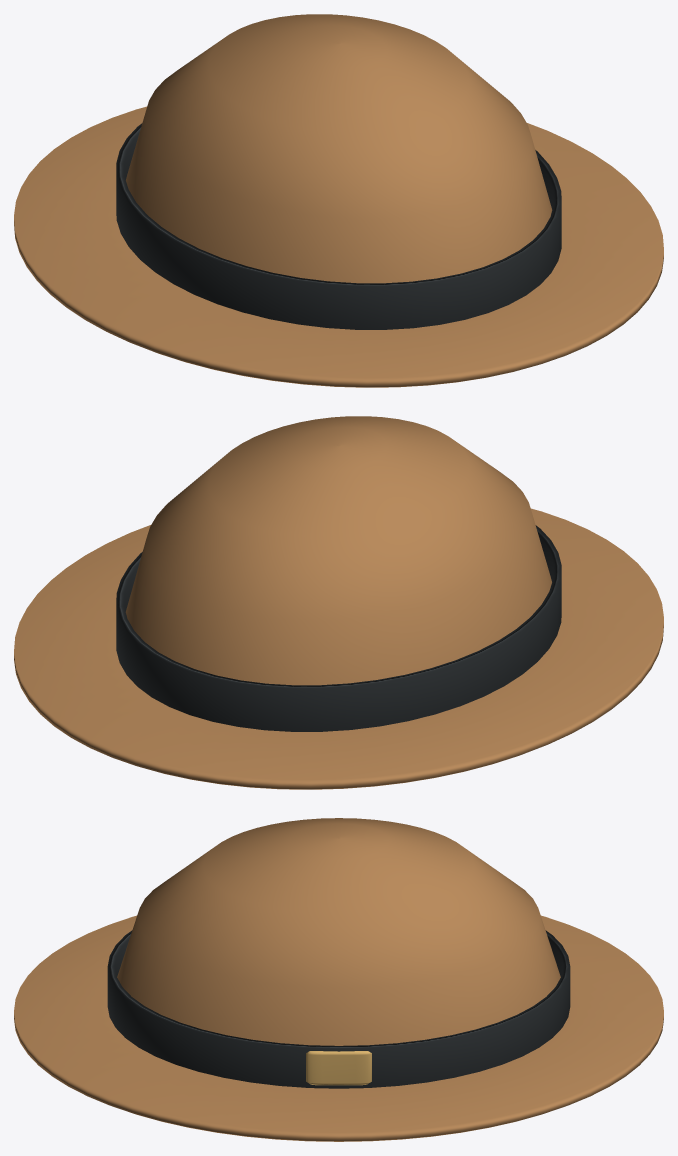
The model's file is 01-fedora.glb.
3 renders of one model, top to bottom at view 1: azimuth 30°, elevation 25°; view 2: azimuth 150°, elevation 25°; view 3: azimuth 270°, elevation 25°, orthographic. The views are drawn at different scales.
Visible parts, largest first — view 1: 01-fedora; view 2: 01-fedora; view 3: 01-fedora.
Boxes of the visible parts, bbox=[...] form: 01-fedora: bbox=[14, 14, 663, 387]; 01-fedora: bbox=[14, 416, 663, 789]; 01-fedora: bbox=[14, 818, 663, 1141].
Bounding box in the file's own units: 0.314 × 0.111 × 0.354.
